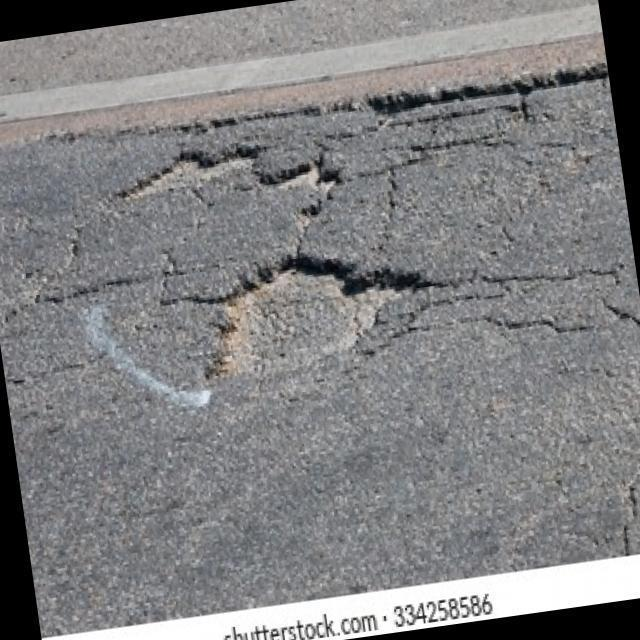pothole: (191, 244, 434, 395), (116, 141, 260, 199), (269, 157, 345, 203)
